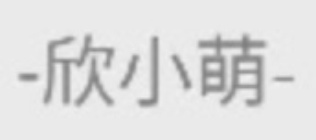TextView: (1, 1, 315, 139)
